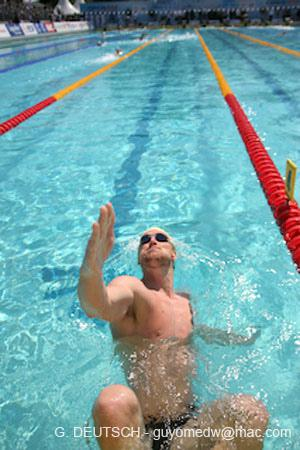human: (79, 203, 272, 449)
